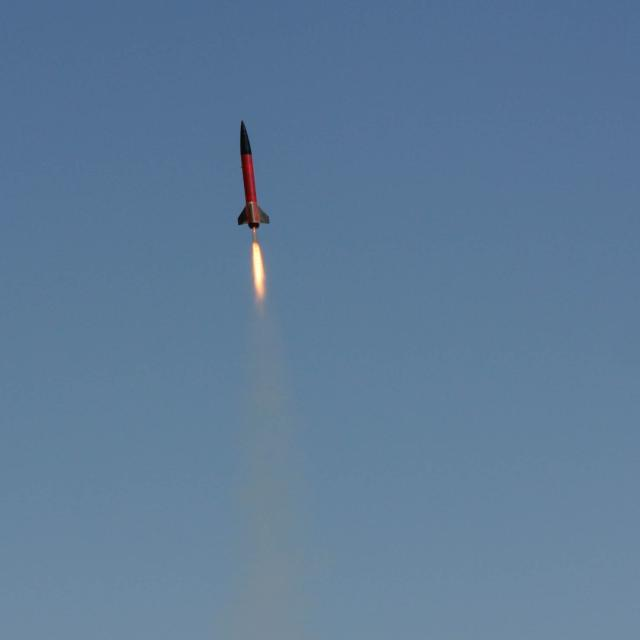Rocket: (237, 120, 271, 230)
